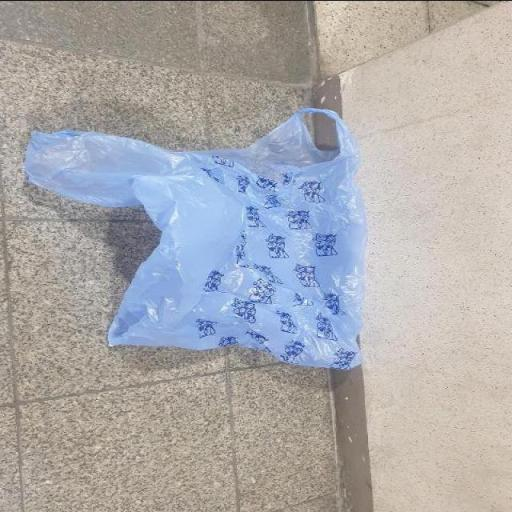plastic-bag: (22, 107, 366, 372)
